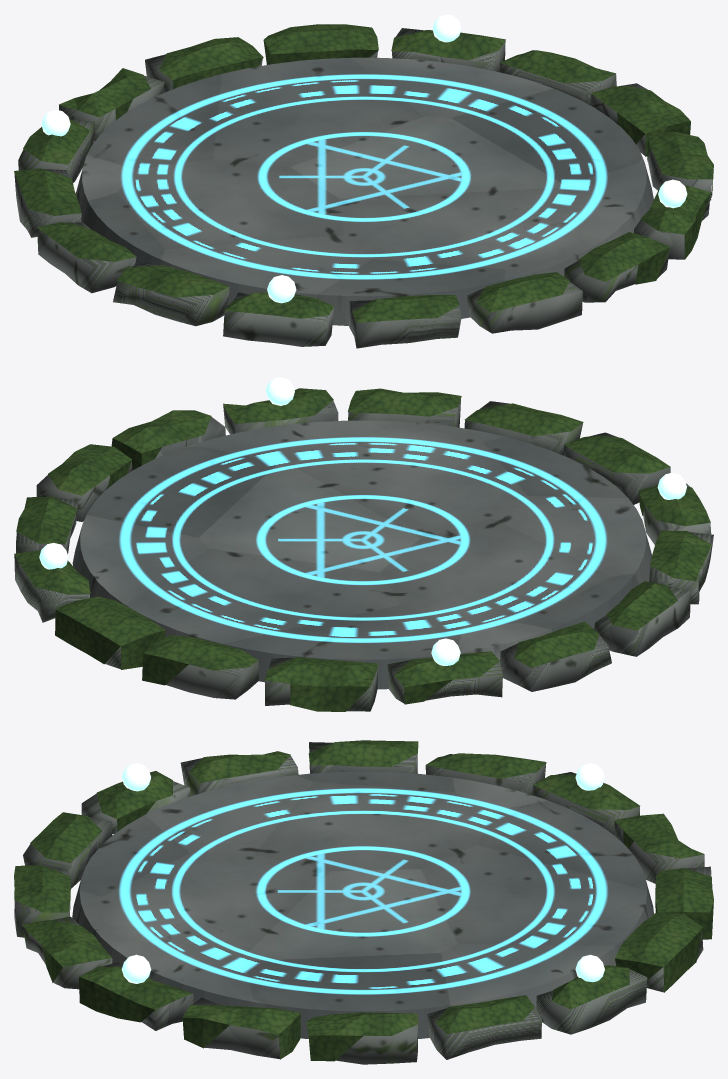
File: ancient_rune_floor_seal.glb
3 views of the same model, one above another, from view 1: azimuth 30°, elevation 25°; view 2: azimuth 150°, elevation 25°; view 3: azimuth 270°, elevation 25° (orthographic).
Visible parts, largest first — view 1: ancient_rune_floor_seal__rune_stone, ancient_rune_floor_seal__moss, ancient_rune_floor_seal__stone_block, ancient_rune_floor_seal__glow_core; view 2: ancient_rune_floor_seal__rune_stone, ancient_rune_floor_seal__moss, ancient_rune_floor_seal__stone_block, ancient_rune_floor_seal__glow_core; view 3: ancient_rune_floor_seal__rune_stone, ancient_rune_floor_seal__moss, ancient_rune_floor_seal__stone_block, ancient_rune_floor_seal__glow_core.
Boxes of the visible parts, x1=… form: ancient_rune_floor_seal__rune_stone: x1=75, y1=57, x2=653, y2=325; ancient_rune_floor_seal__moss: x1=14, y1=24, x2=713, y2=322; ancient_rune_floor_seal__stone_block: x1=14, y1=28, x2=711, y2=348; ancient_rune_floor_seal__glow_core: x1=41, y1=14, x2=687, y2=303; ancient_rune_floor_seal__rune_stone: x1=72, y1=420, x2=651, y2=689; ancient_rune_floor_seal__moss: x1=14, y1=388, x2=711, y2=711; ancient_rune_floor_seal__stone_block: x1=14, y1=399, x2=713, y2=711; ancient_rune_floor_seal__glow_core: x1=39, y1=377, x2=686, y2=665; ancient_rune_floor_seal__rune_stone: x1=72, y1=771, x2=653, y2=1038; ancient_rune_floor_seal__moss: x1=14, y1=740, x2=713, y2=1061; ancient_rune_floor_seal__stone_block: x1=14, y1=742, x2=711, y2=1064; ancient_rune_floor_seal__glow_core: x1=121, y1=763, x2=604, y2=983.
Size of the model in its own units: 2.83 by 0.2644 by 2.84.
Materials: 4 (3 with a texture image).
